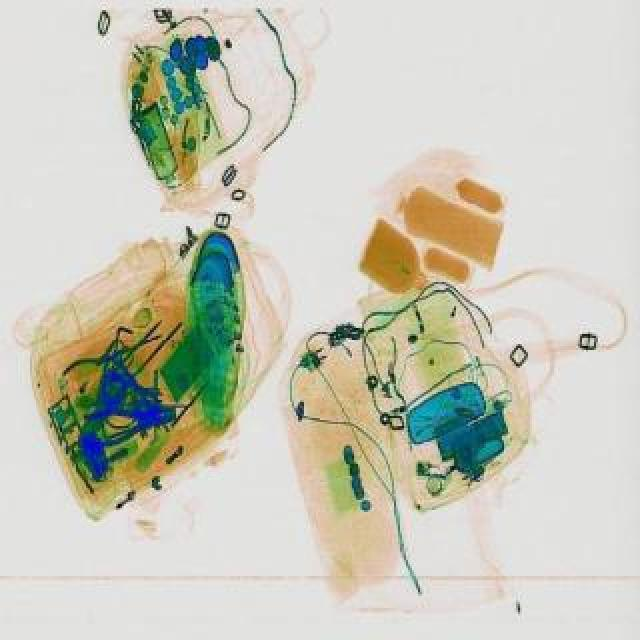wrench: (54, 328, 146, 414), (84, 394, 184, 454)
